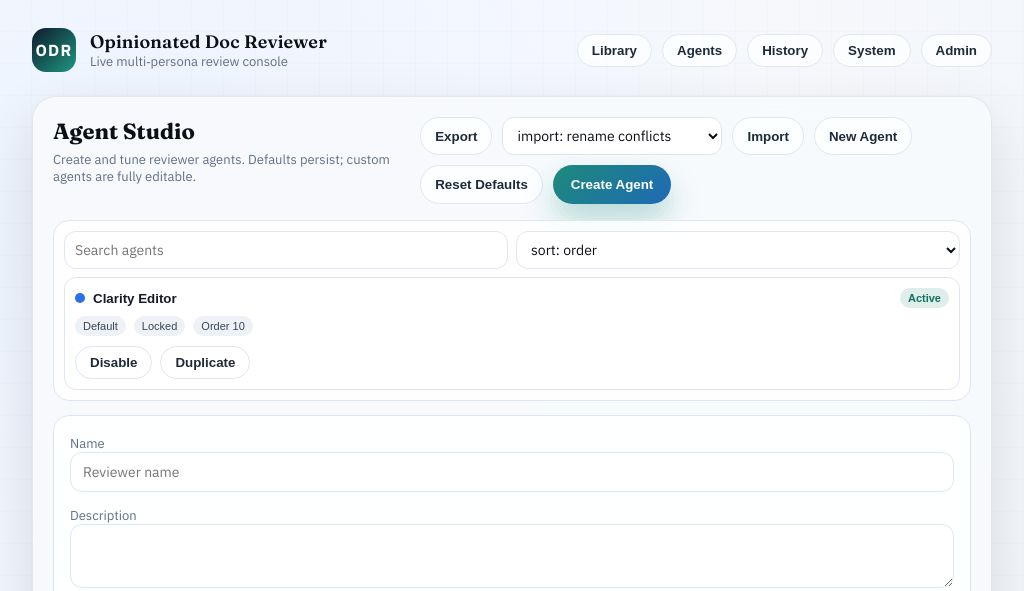
Test: page controls › quick toggles active status from the agent list
This screenshot has width=1024, height=591.
Expected: the text "Clarity Editor" is shown, [93,290,177,306]
Click the button "Disable" at (114, 362), box [75,346,152,379]
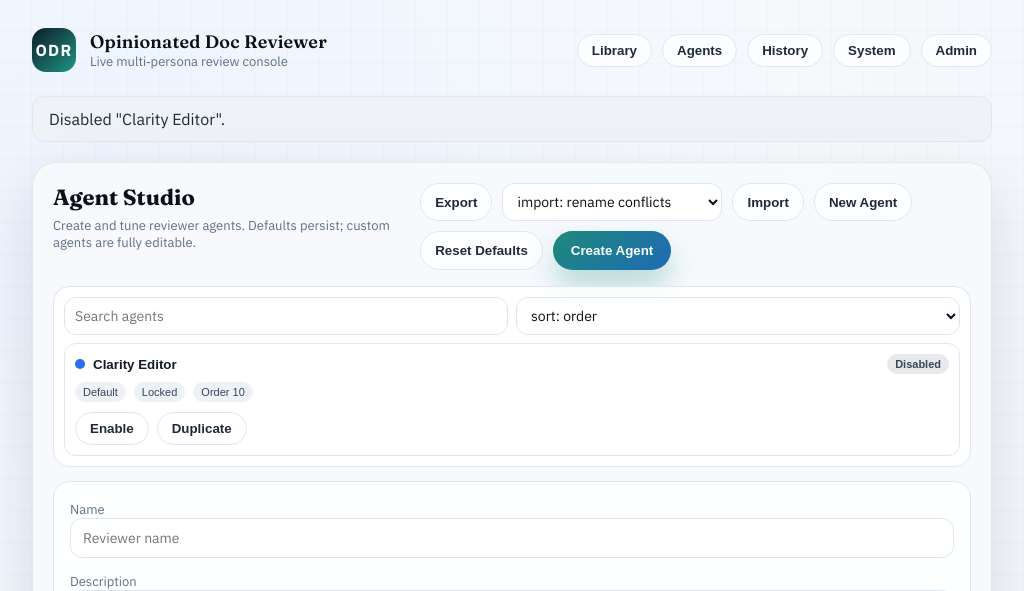
Result: the button "Enable" is shown at [75,412,149,445]
